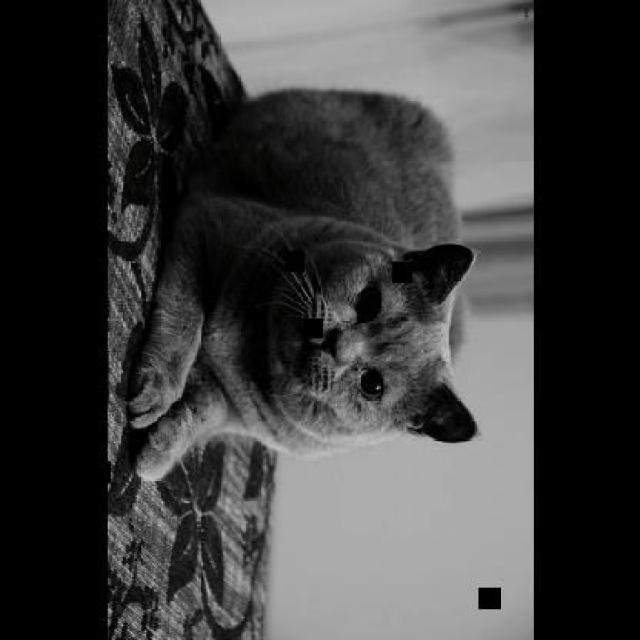unauthorized: (123, 86, 479, 482)
